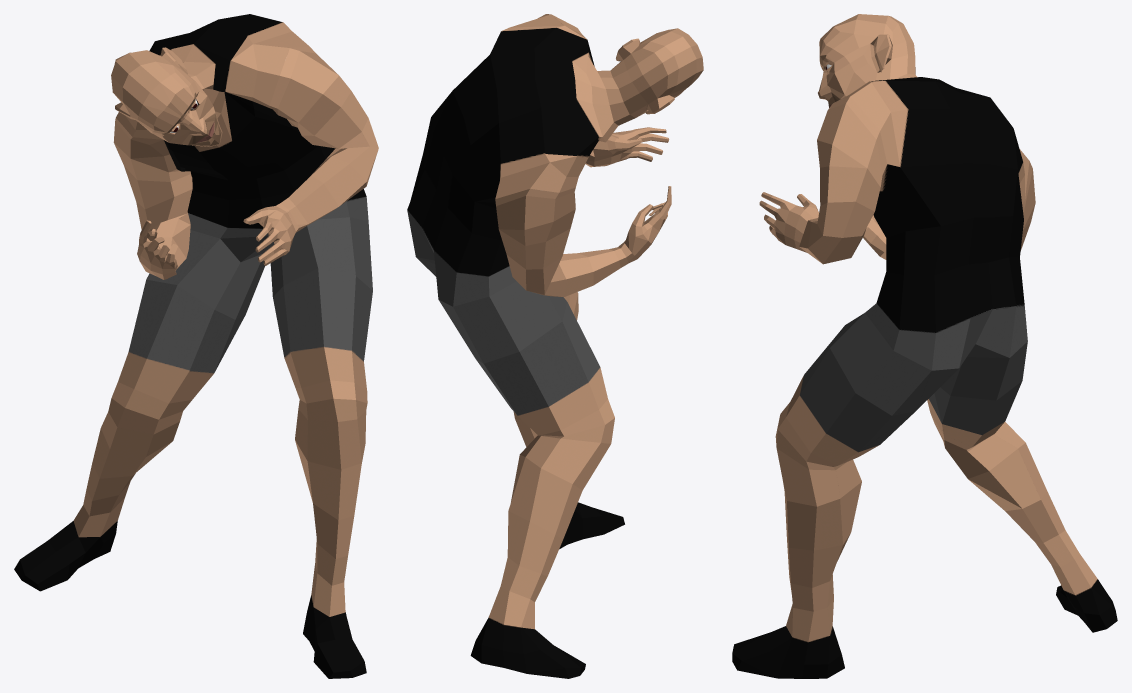
File: PlayerDead(8).obj
3 views of the same model, side by side, from view 1: azimuth 30°, elevation 25°; view 2: azimuth 150°, elevation 25°; view 3: azimuth 270°, elevation 25° (orthographic). The views are drawn at different scales.
Parts seen in each view (by area): view 1: Plane002; view 2: Plane002; view 3: Plane002.
Boxes of the visible parts, x1=… form: Plane002: x1=14, y1=14, x2=378, y2=678; Plane002: x1=407, y1=14, x2=703, y2=678; Plane002: x1=732, y1=14, x2=1117, y2=678.
Bounding box in the file's own units: 655 × 1421 × 849.
